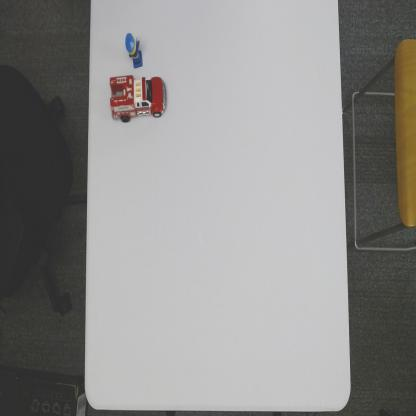Firetruck: (109, 74, 167, 122)
